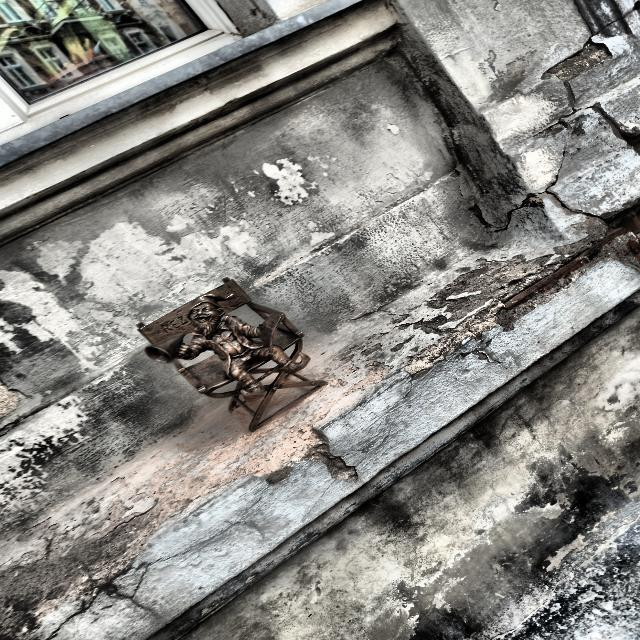Rezyser: (138, 279, 325, 430)
